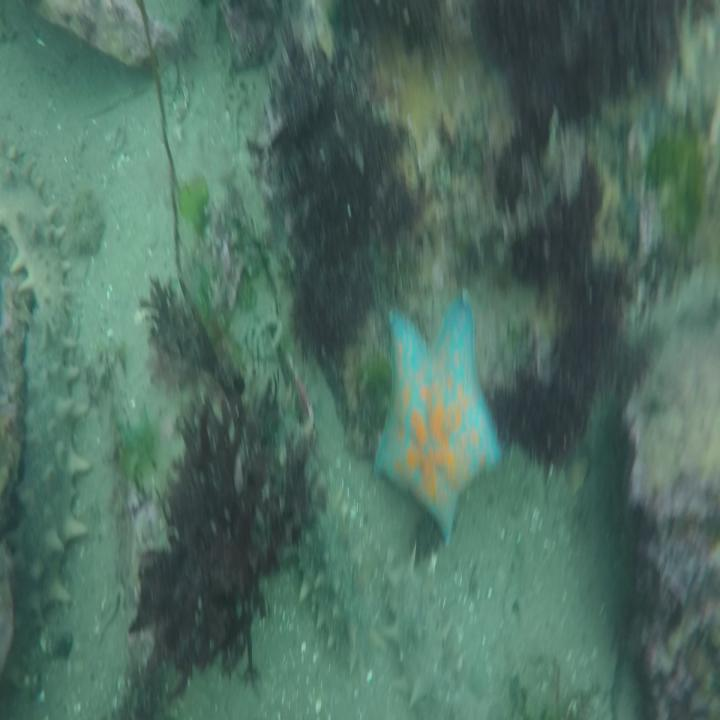holothurian: (238, 359, 359, 660), (5, 300, 90, 615), (0, 132, 70, 334), (383, 566, 466, 720)
starfish: (374, 305, 500, 549)
